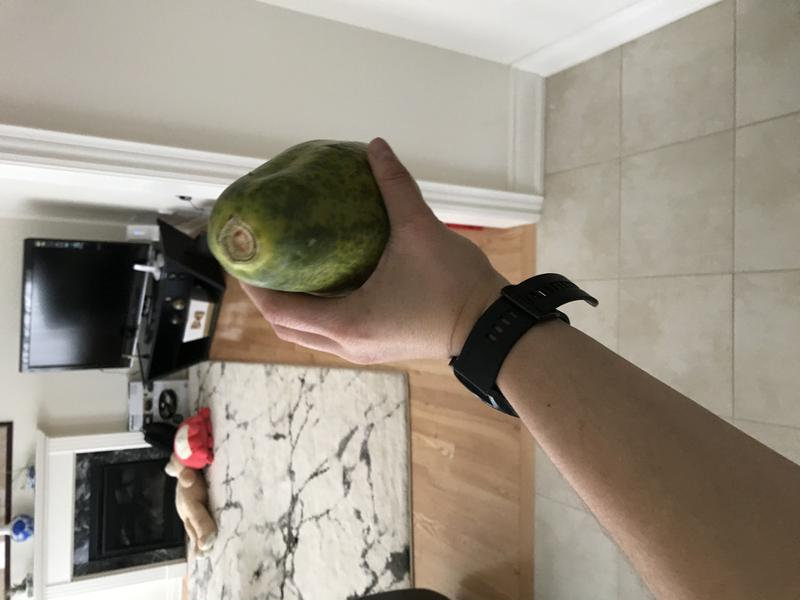papaya: (203, 129, 414, 308)
